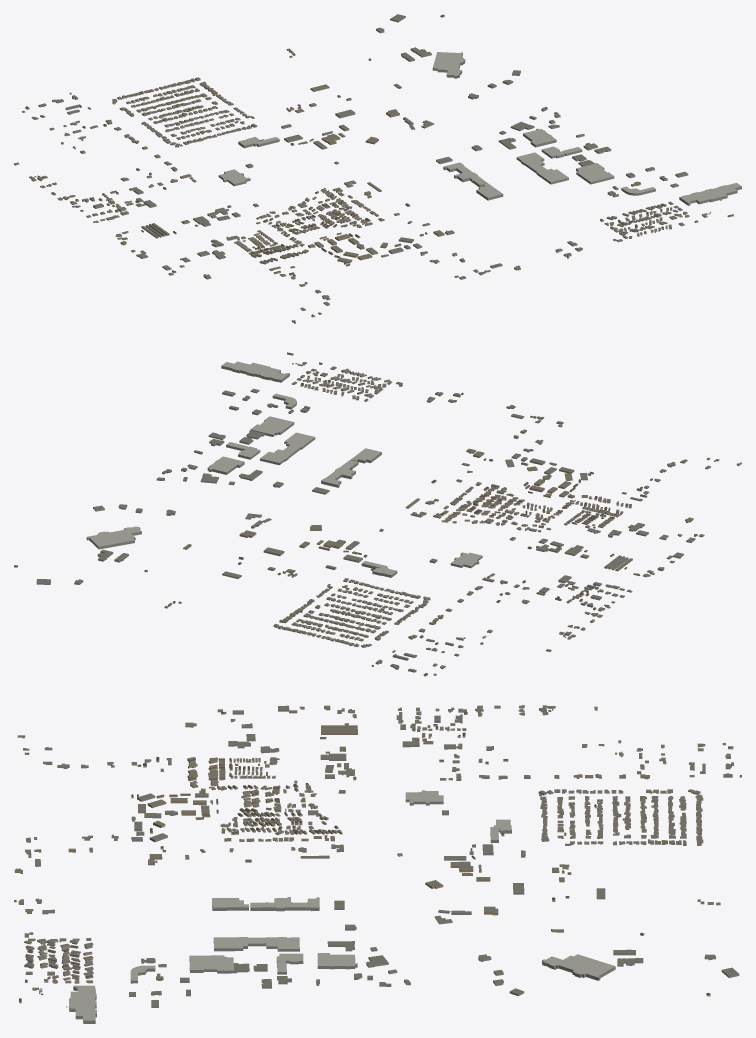
Rendered from BuildingsFar.glb.
3 views of the same model, one above another, from view 1: azimuth 30°, elevation 25°; view 2: azimuth 150°, elevation 25°; view 3: azimuth 270°, elevation 25° (orthographic). The views are drawn at different scales.
Parts seen in each view (by area): view 1: BuildingsFar; view 2: BuildingsFar; view 3: BuildingsFar.
Boxes of the visible parts, x1,y1,x2,y2 form: BuildingsFar: [14, 14, 741, 323]; BuildingsFar: [14, 352, 741, 676]; BuildingsFar: [14, 705, 741, 1023].
Size of the model in its own units: 2064 by 11.81 by 1998.
